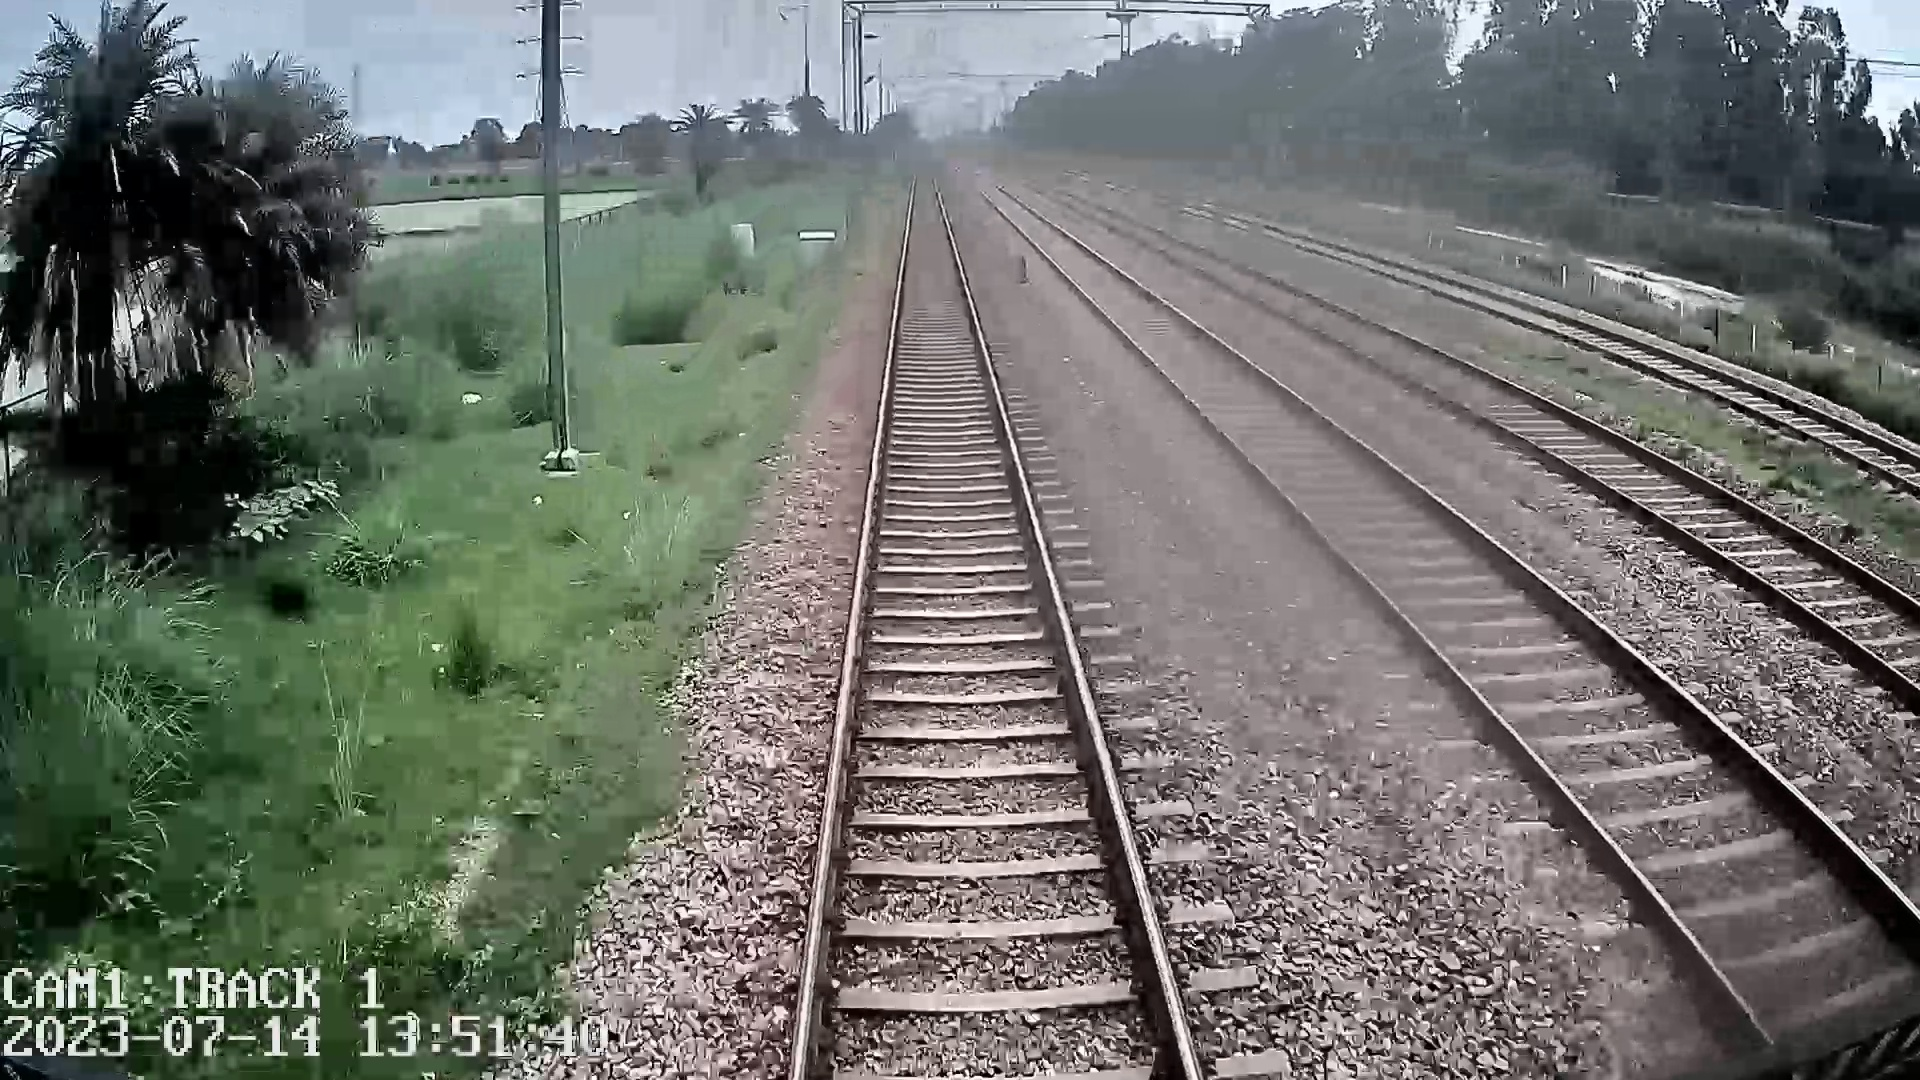track1: (800, 198, 1185, 1068)
track2: (997, 208, 1911, 1034)
track3: (1116, 228, 1912, 669)
track4: (1266, 229, 1909, 472)
